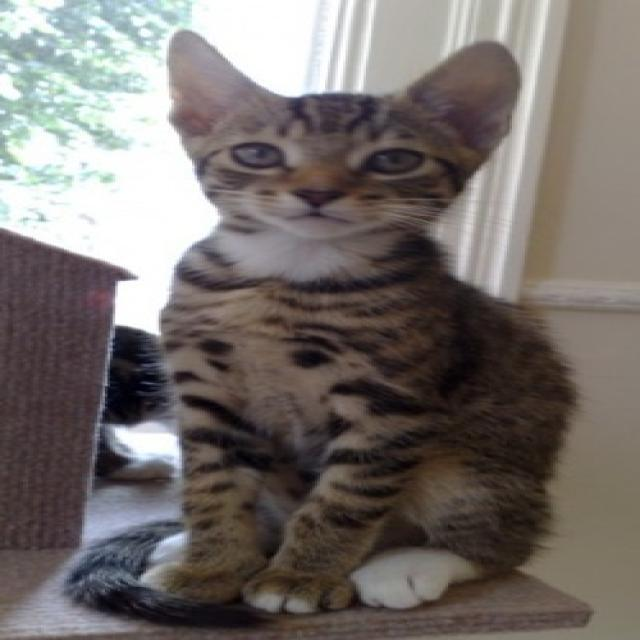Egyptian_Mau: (139, 28, 565, 233)
